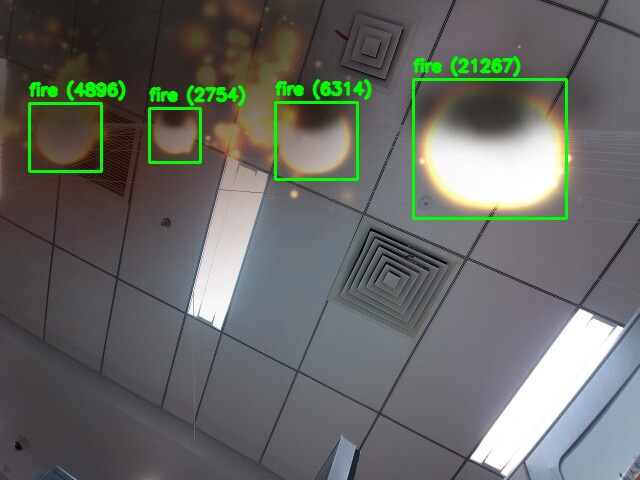fire: (413, 79, 566, 218), (275, 102, 357, 179), (29, 103, 101, 171), (149, 108, 200, 162)
